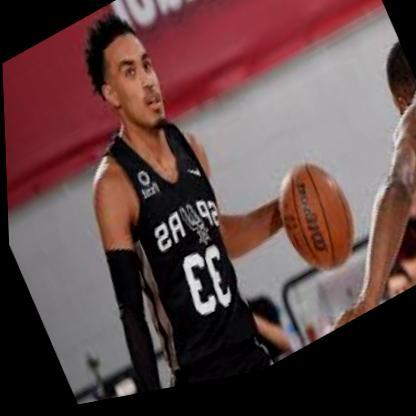basketball: (264, 155, 366, 299)
